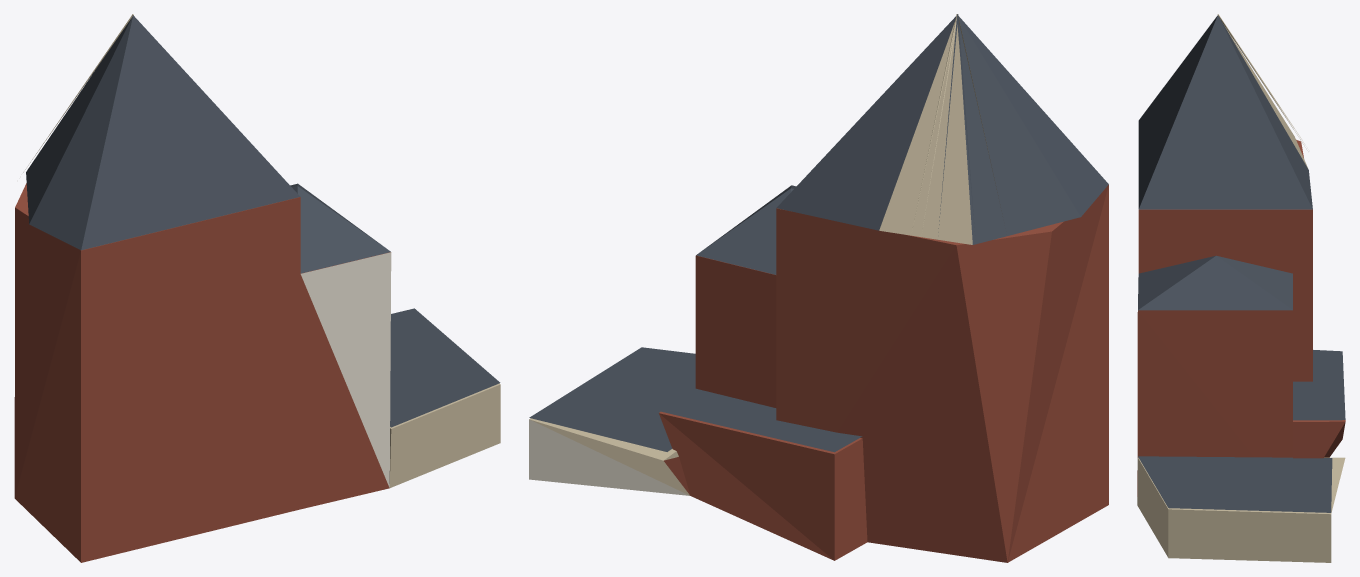
The model's file is schreierstoren.lod2.glb.
3 renders of one model, left to right at view 1: azimuth 30°, elevation 25°; view 2: azimuth 150°, elevation 25°; view 3: azimuth 270°, elevation 25°, orthographic. The views are drawn at different scales.
Parts seen in each view (by area): view 1: lod2; view 2: lod2; view 3: lod2.
Boxes of the visible parts, x1=… form: lod2: x1=14, y1=14, x2=500, y2=562; lod2: x1=529, y1=14, x2=1108, y2=562; lod2: x1=1137, y1=14, x2=1345, y2=562.
Size of the model in its own units: 22.4 by 22.69 by 10.52.
